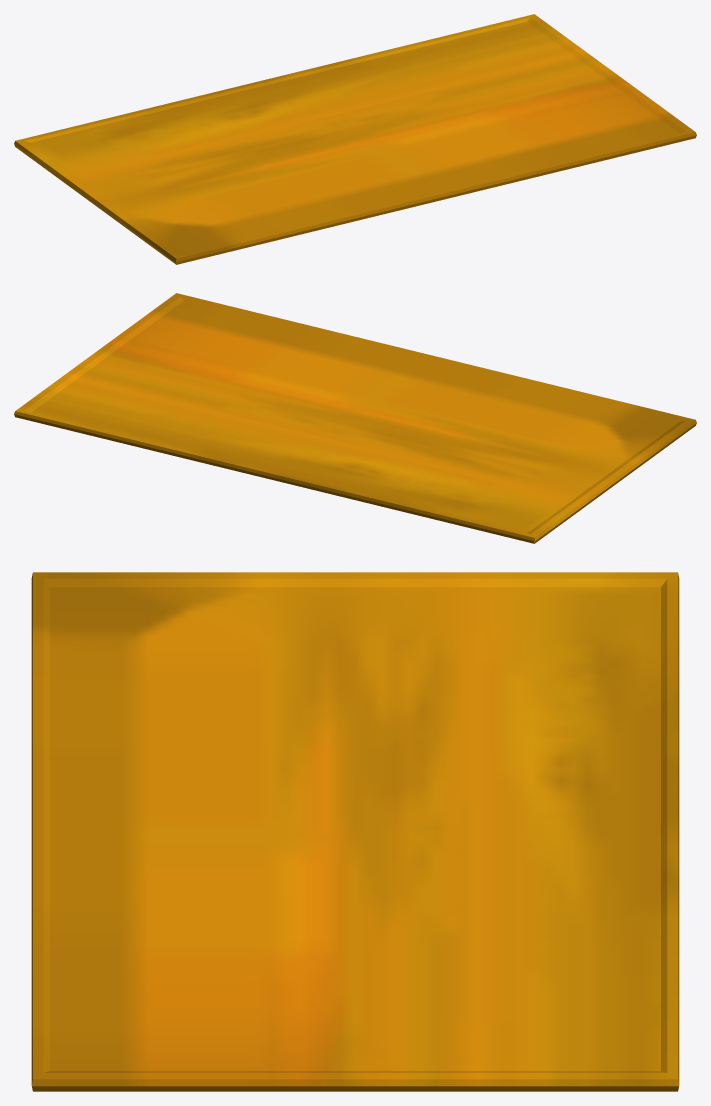
Rendered from obj_Desk_rolling-drawer_shelves_001.obj.
The picture shows the model from 3 angles, top to bottom: view 1: azimuth 30°, elevation 25°; view 2: azimuth 150°, elevation 25°; view 3: azimuth 270°, elevation 25°; orthographic projection. The views are drawn at different scales.
Visible parts, largest first — view 1: obj_Desk_rolling-drawer_shelves.001; view 2: obj_Desk_rolling-drawer_shelves.001; view 3: obj_Desk_rolling-drawer_shelves.001.
Boxes of the visible parts, x1,y1,x2,y2 form: obj_Desk_rolling-drawer_shelves.001: (14,14,696,264); obj_Desk_rolling-drawer_shelves.001: (14,293,696,543); obj_Desk_rolling-drawer_shelves.001: (31,572,679,1091).
Bounding box in the file's own units: 0.7898 × 0.00879 × 0.4248.
